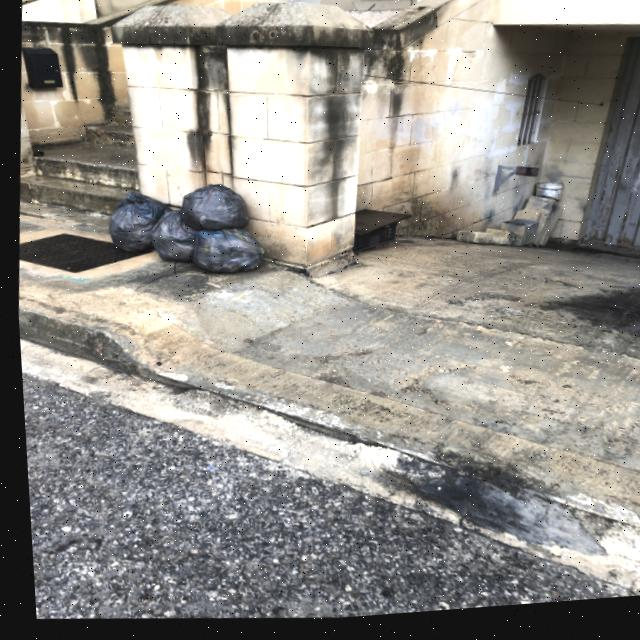Mixed Waste -Black Bag-: (103, 193, 167, 258), (187, 227, 264, 280), (176, 185, 247, 238), (144, 209, 198, 267)
